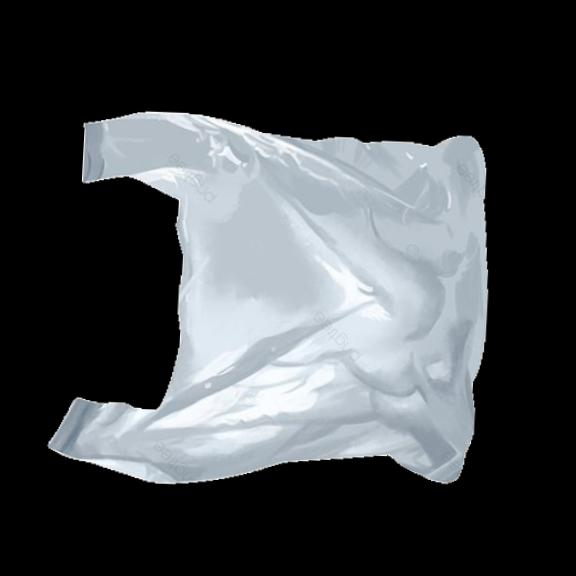Plastik: (37, 109, 499, 504)
